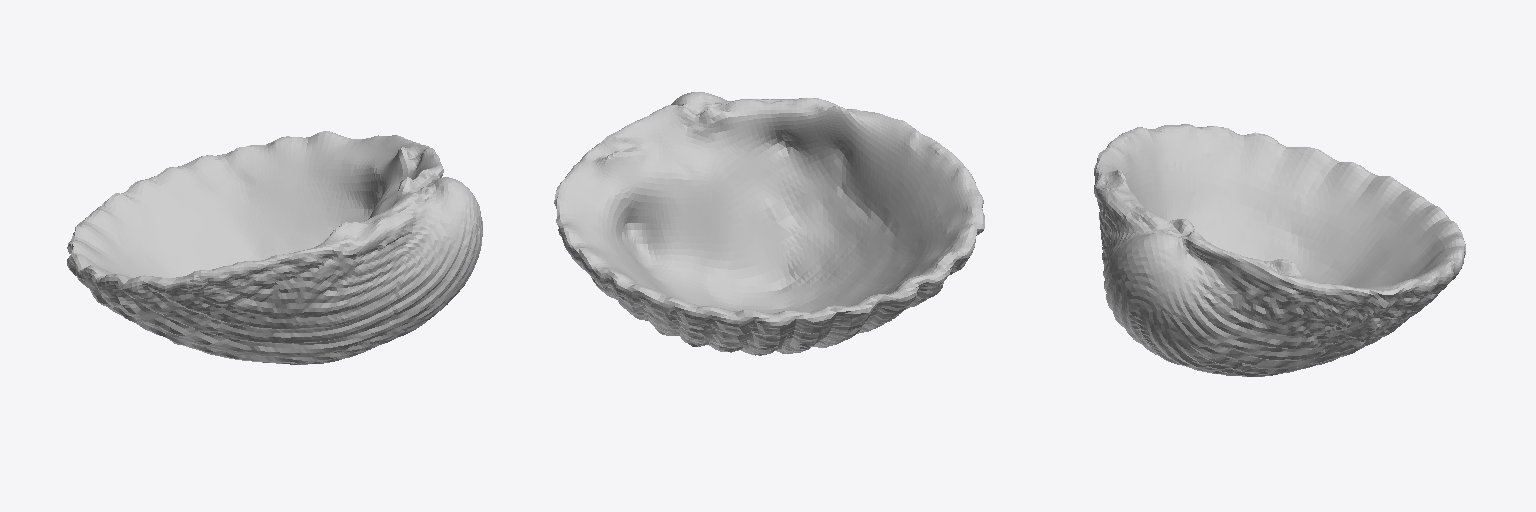
File: cockle.obj
3 views of the same model, side by side, from view 1: azimuth 30°, elevation 25°; view 2: azimuth 150°, elevation 25°; view 3: azimuth 270°, elevation 25° (orthographic).
Parts seen in each view (by area): view 1: common-cockle; view 2: common-cockle; view 3: common-cockle.
Boxes of the visible parts, x1=… form: common-cockle: x1=67, y1=131, x2=482, y2=364; common-cockle: x1=554, y1=92, x2=984, y2=355; common-cockle: x1=1094, y1=124, x2=1465, y2=376.
Bounding box in the file's own units: 27.07 × 12.84 × 24.25.